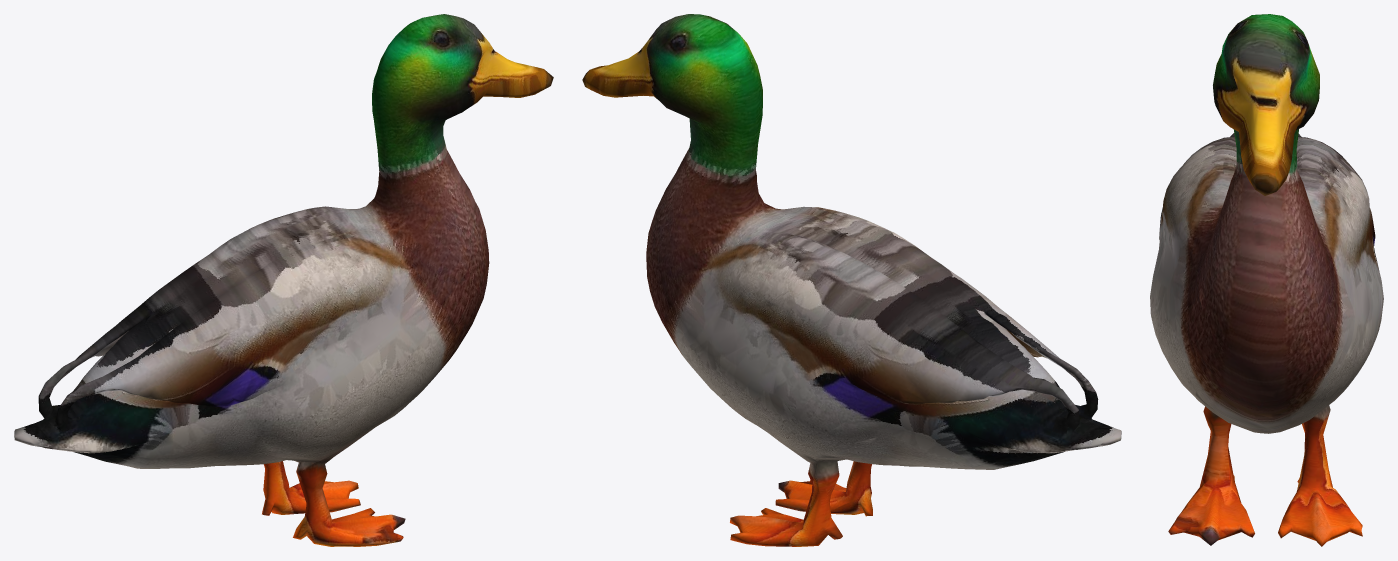
File: duck.glb
3 renders of one model, left to right at view 1: azimuth 30°, elevation 25°; view 2: azimuth 150°, elevation 25°; view 3: azimuth 270°, elevation 25°, orthographic. The views are drawn at different scales.
Visible parts, largest first — view 1: geometry_0; view 2: geometry_0; view 3: geometry_0.
Part boxes in pixels (x1=…): geometry_0: x1=14, y1=14, x2=553, y2=546; geometry_0: x1=582, y1=14, x2=1121, y2=546; geometry_0: x1=1150, y1=14, x2=1383, y2=546.
Size of the model in its own units: 0.5502 by 0.4665 by 0.1762.
1 material, 1 textured.
